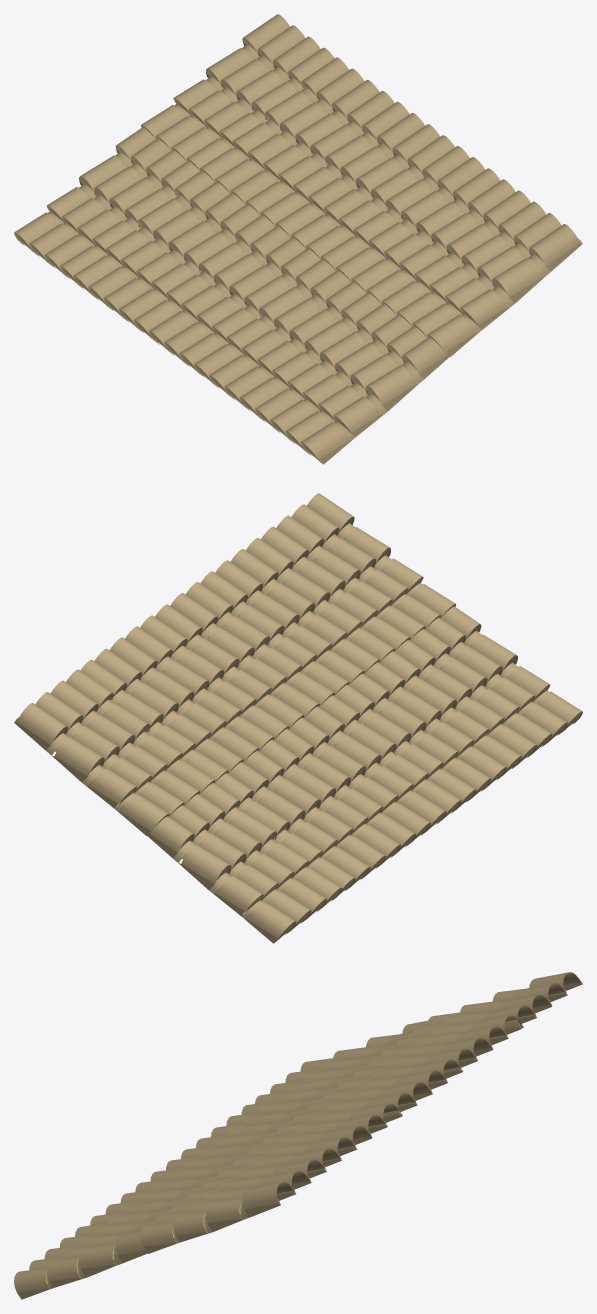
Rendered from ClockShop_Roof.fbx.
3 renders of one model, top to bottom at view 1: azimuth 30°, elevation 25°; view 2: azimuth 150°, elevation 25°; view 3: azimuth 330°, elevation 25°, orthographic.
Parts seen in each view (by area): view 1: Roof; view 2: Roof; view 3: Roof.
Boxes of the visible parts, <box> form: Roof: <box>14,14,582,464</box>; Roof: <box>14,493,582,943</box>; Roof: <box>14,972,582,1299</box>.
Bounding box in the file's own units: 75.69 × 45.98 × 146.
